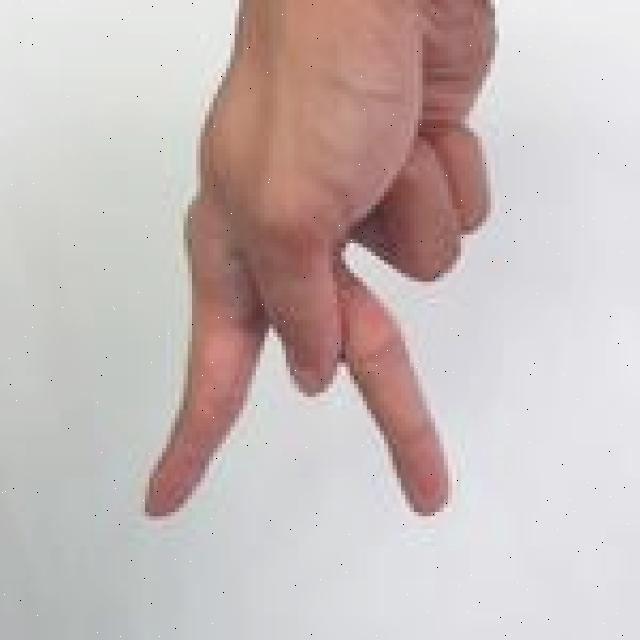P: (135, 0, 520, 554)
